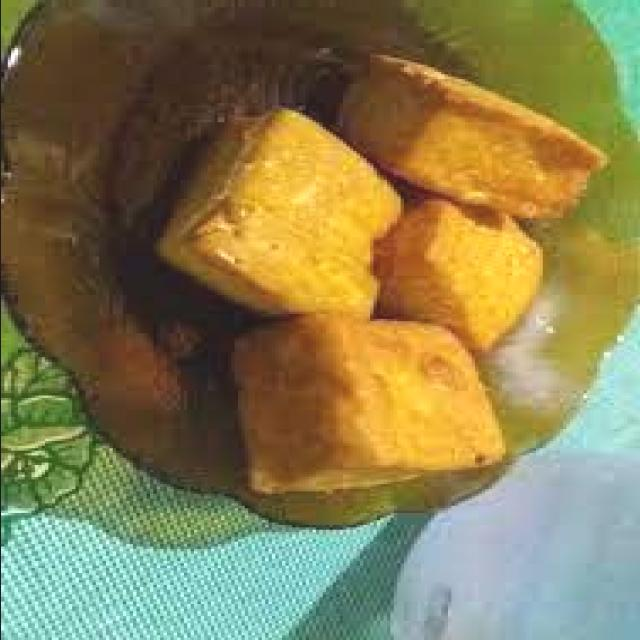tahu goreng: (152, 108, 400, 319), (227, 312, 505, 494), (328, 50, 606, 223), (369, 197, 545, 352)
